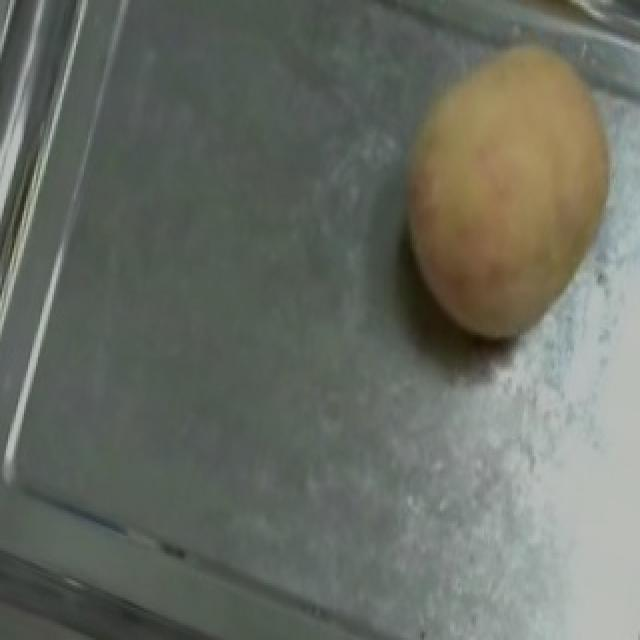Fruit: (354, 8, 640, 372)
